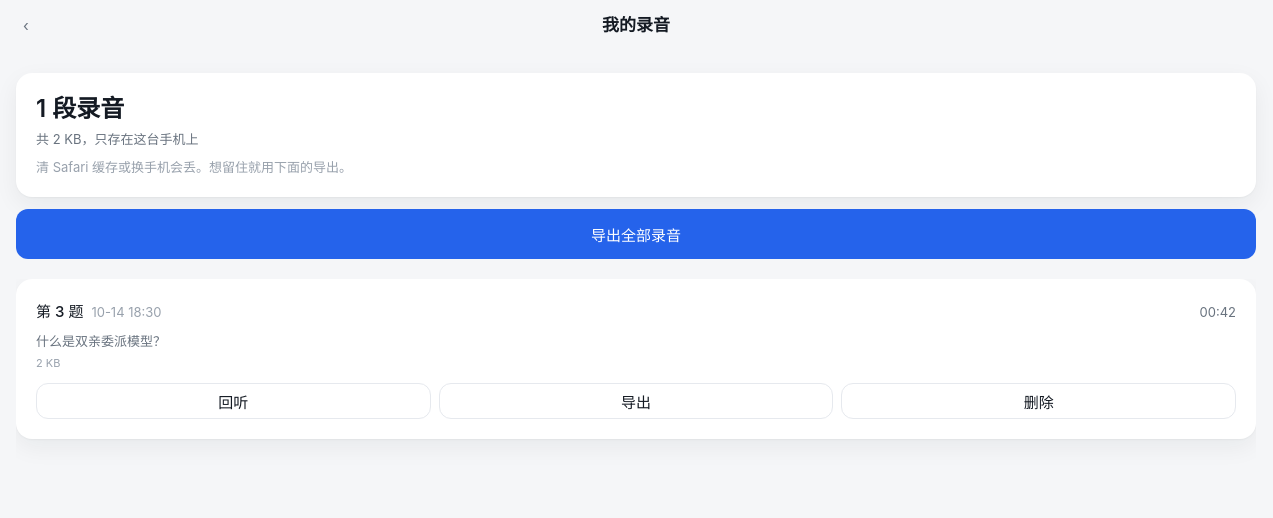
Scenario: Clips · 单条导出 › 导出的文件名带题号
This screenshot has width=1273, height=518.
Expected: the text "1 段录音" is shown, 36,94 -> 124,123
What coordinates should you click on to do the following:
click the button "导出"
I would click on:
 (636, 401)
Its box is 439,383 -> 833,419.
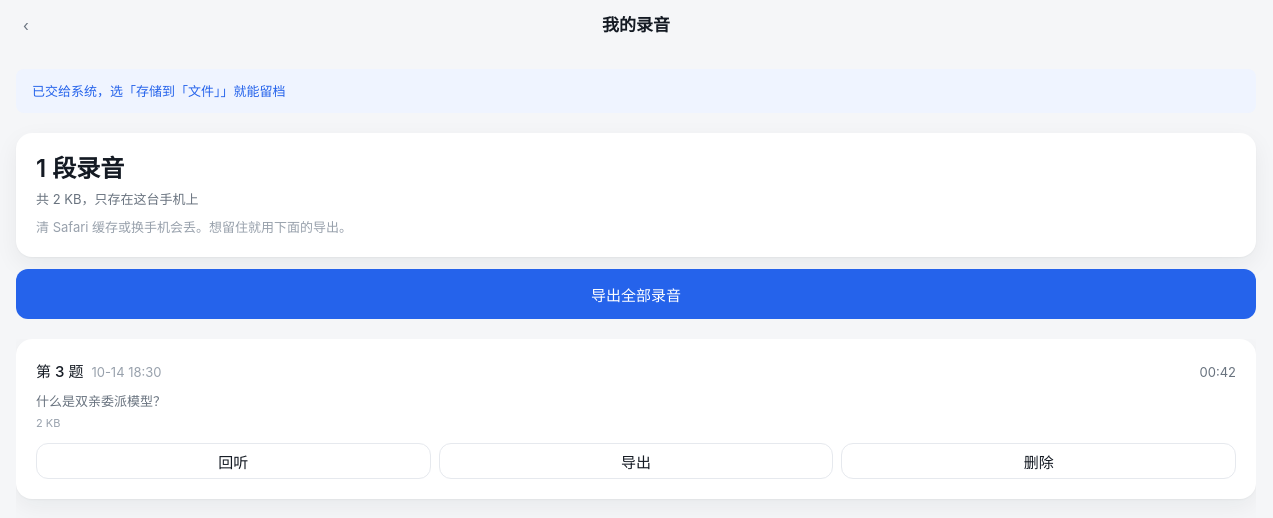
Expected: the message shows "文件", 32,83 -> 286,99
